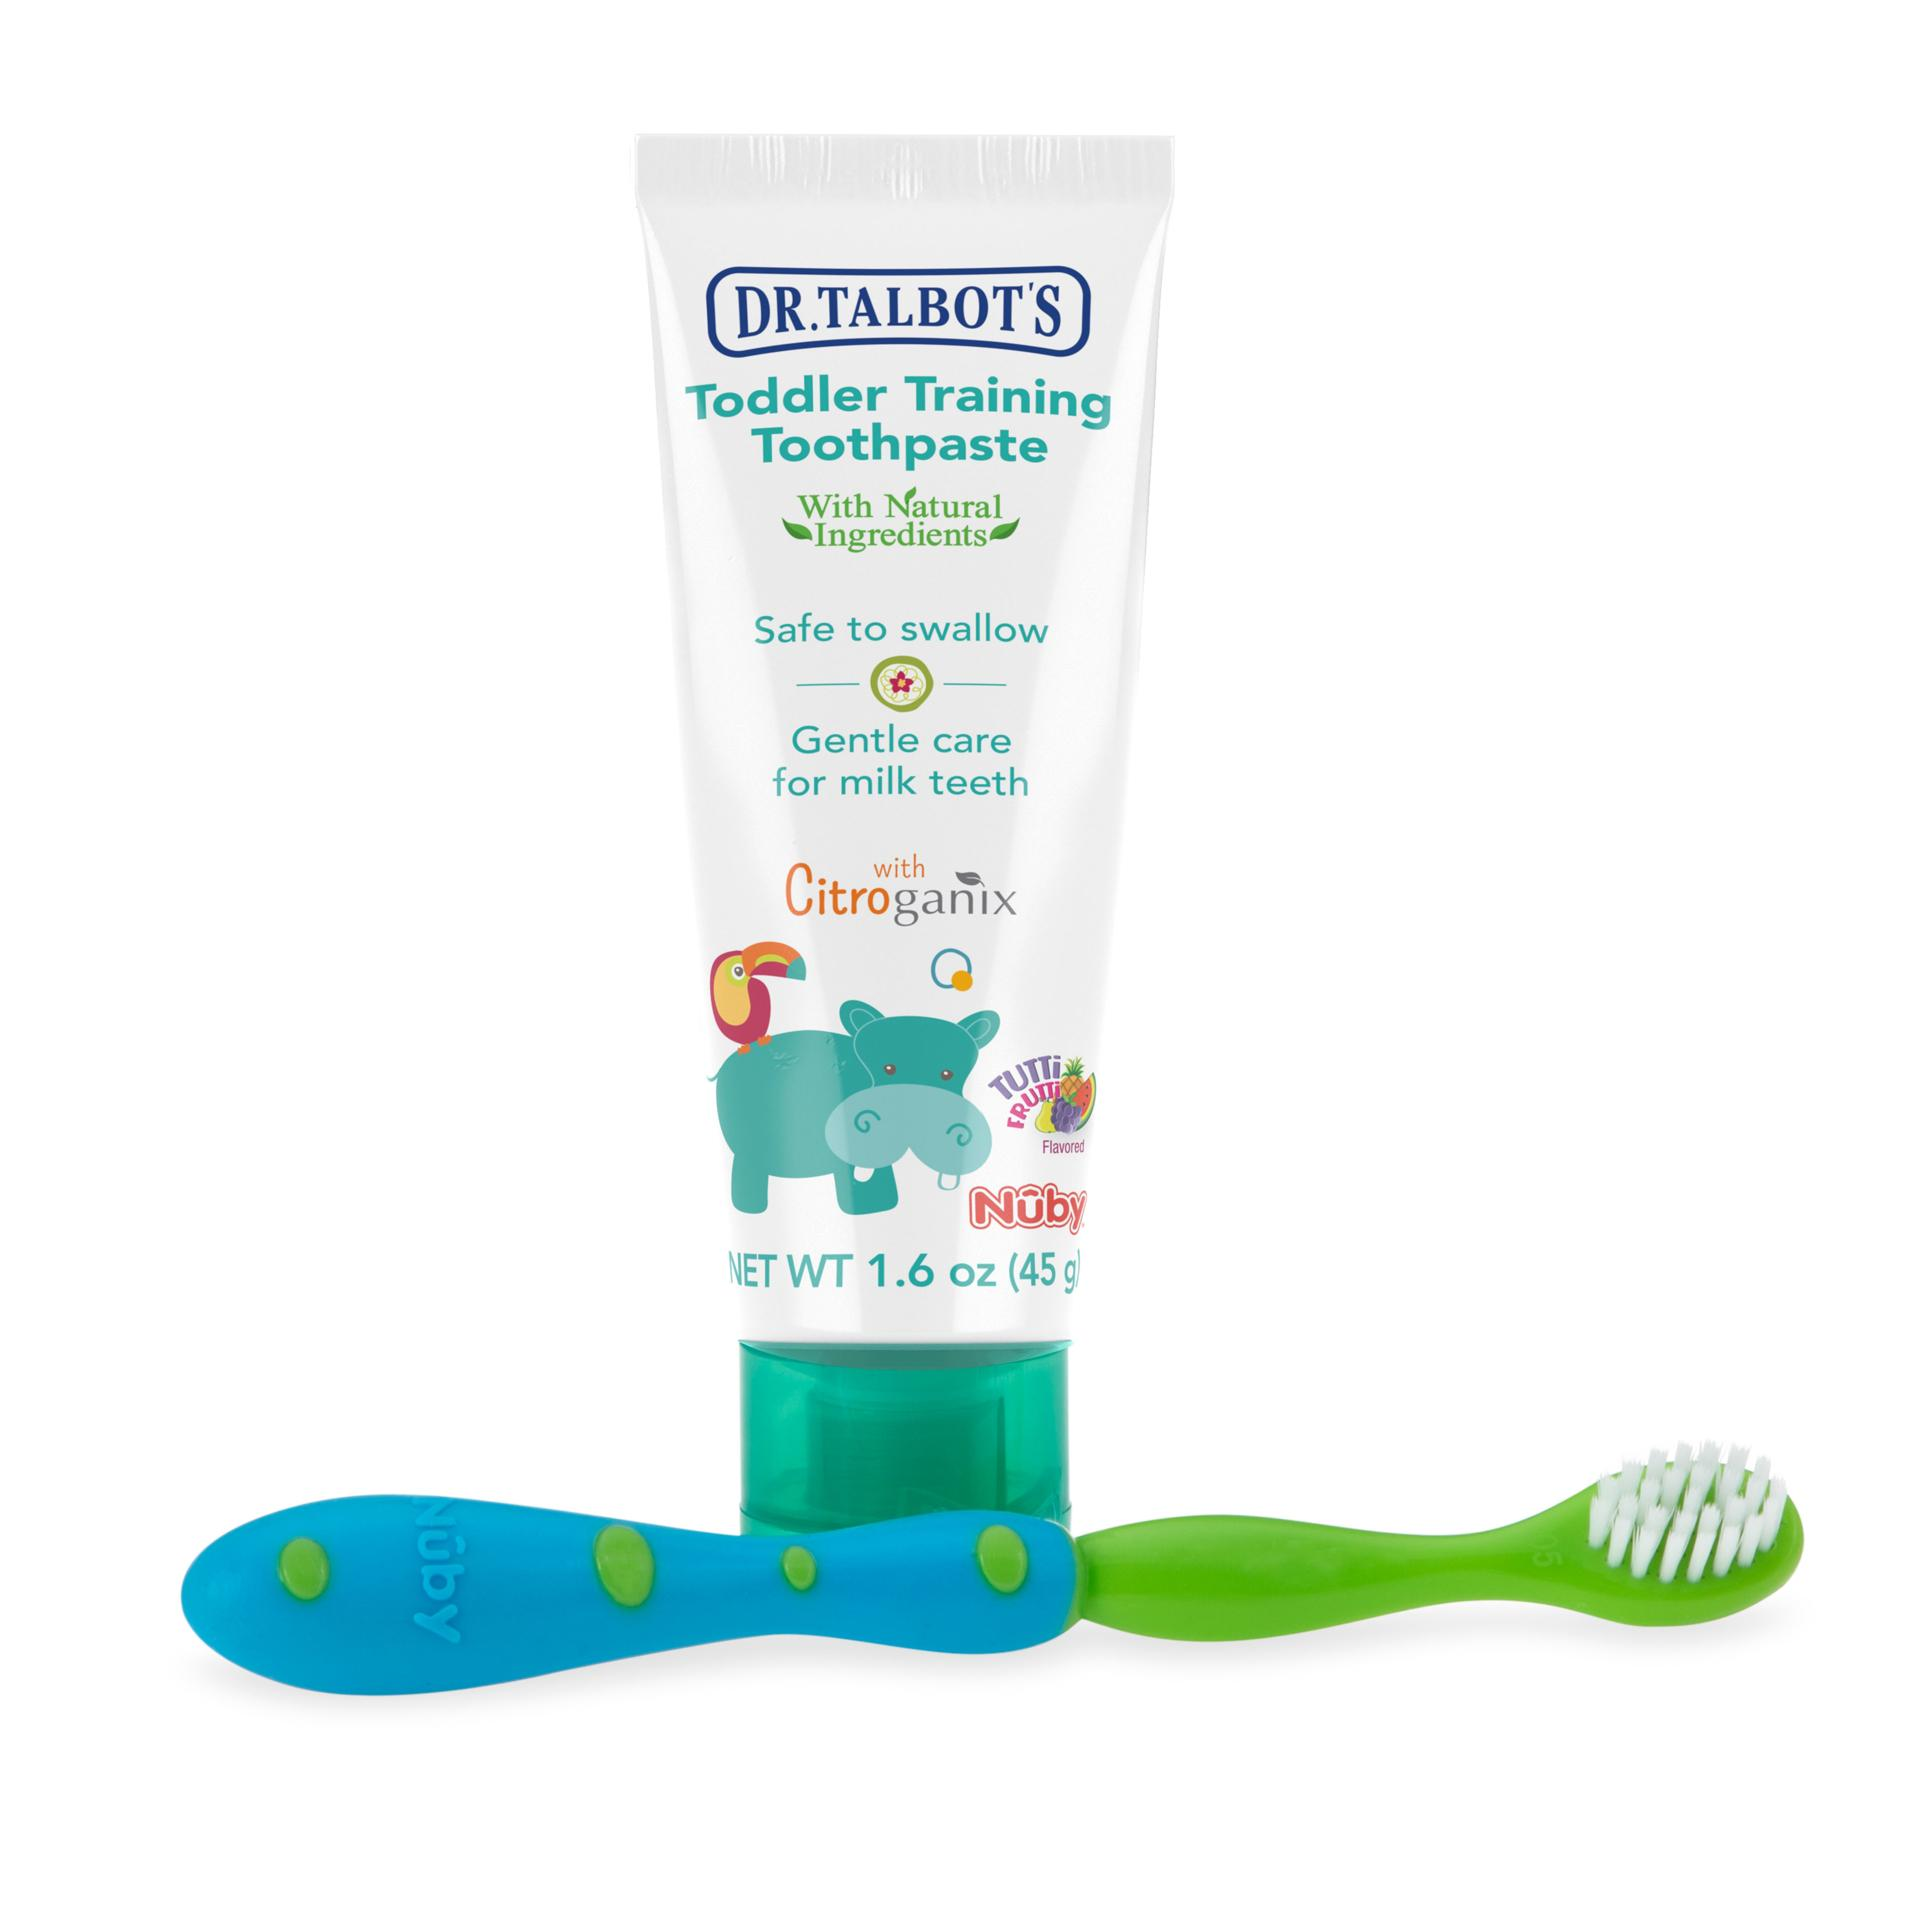toothpaste: (624, 107, 1166, 1614)
